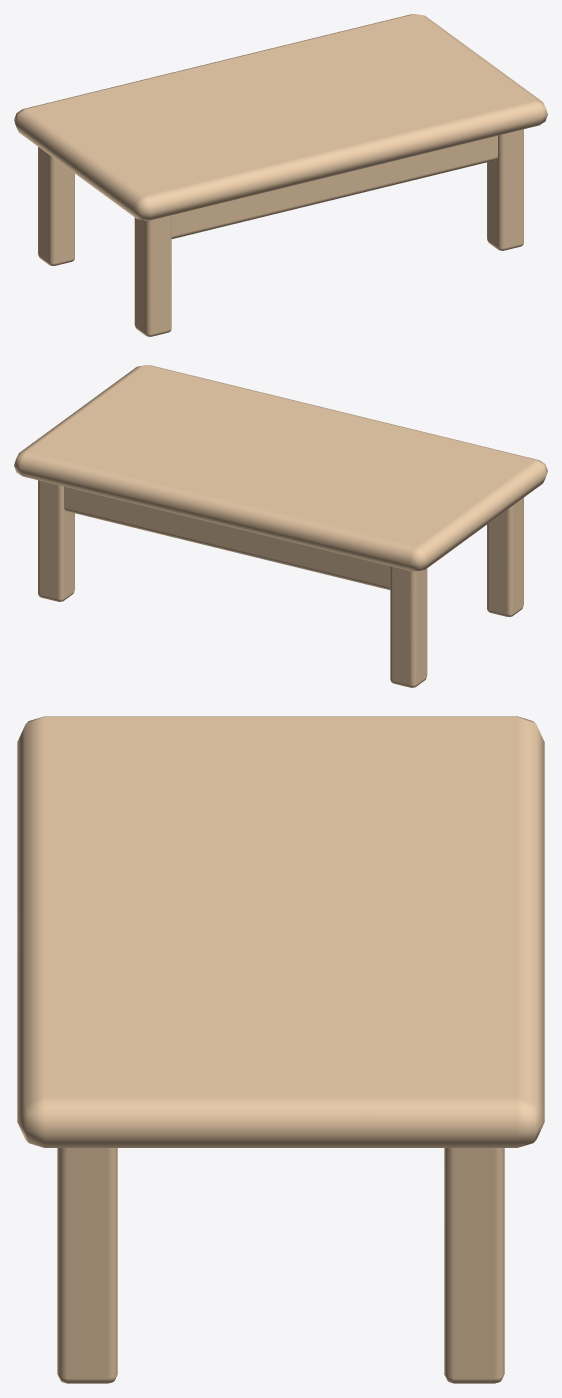
The model's file is show_living_table.glb.
3 renders of one model, top to bottom at view 1: azimuth 30°, elevation 25°; view 2: azimuth 150°, elevation 25°; view 3: azimuth 270°, elevation 25°, orthographic. The views are drawn at different scales.
Size of the model in its own units: 1.9 by 0.65 by 1.05.
